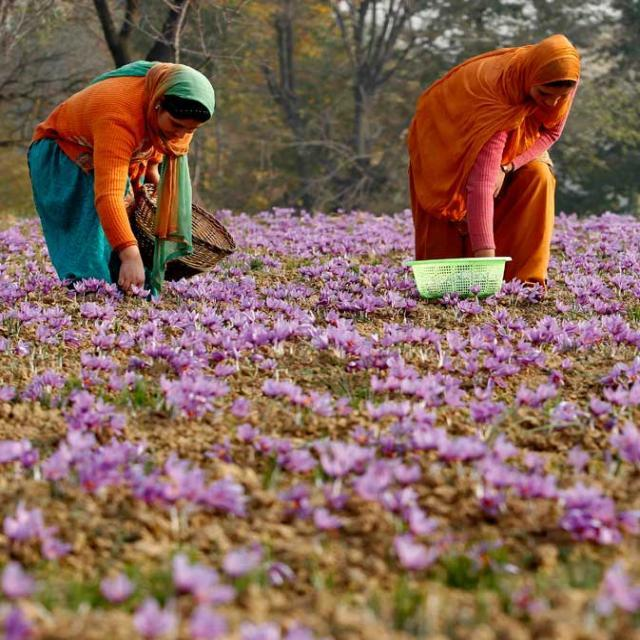Flower: (2, 273, 640, 640)
